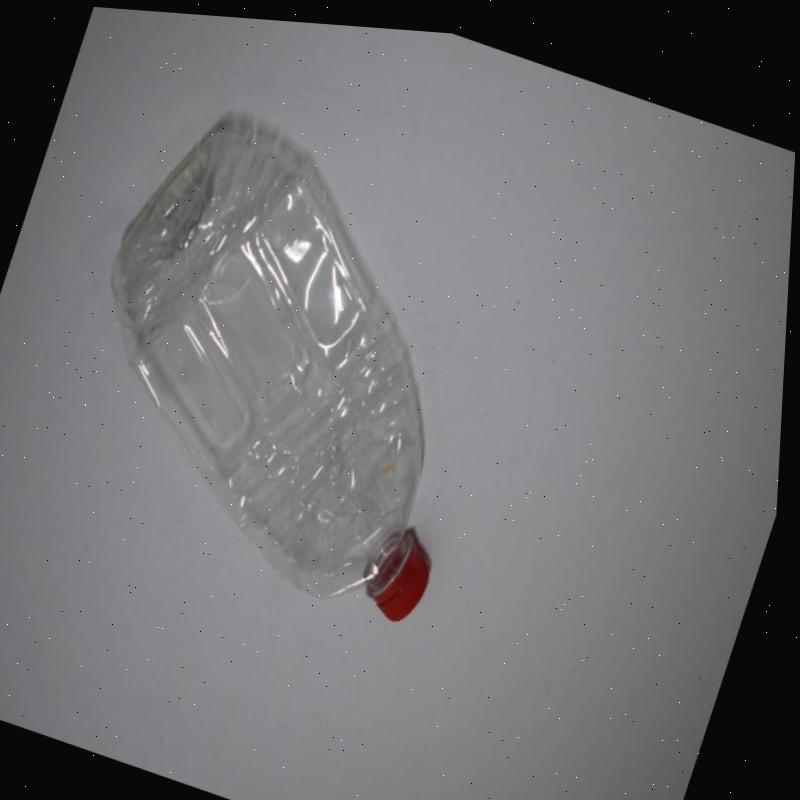botella: (36, 83, 550, 636)
